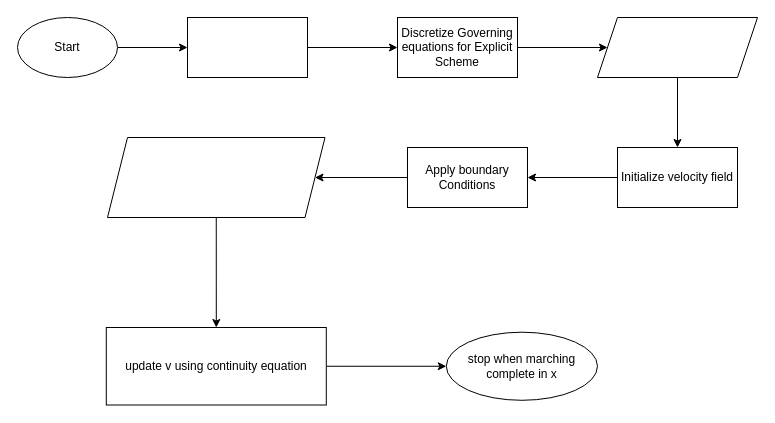
Image size: 775x423. Some labels were removed from this diagram. Here are the shapes that lost their labels. From the top down, the centre of each, then its label:
At point (247, 47): "Study nature of governing equations".
At point (677, 47): "Initialize Variables".
At point (215, 177): "update u with x momentum equation".
